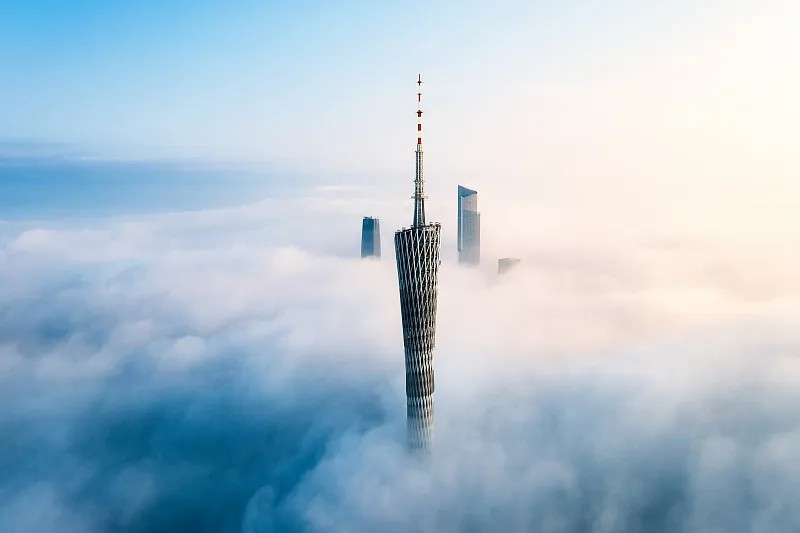Canton: (393, 72, 444, 462)
